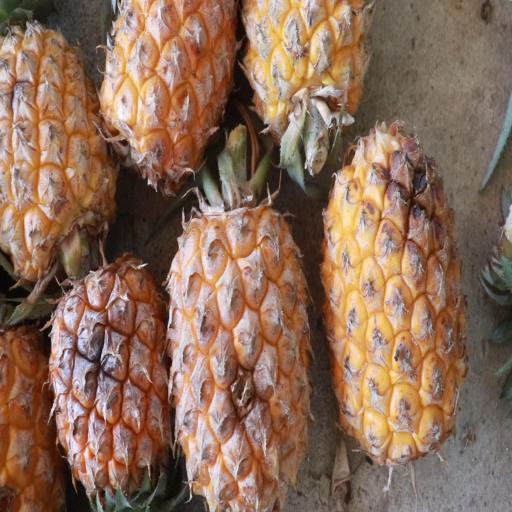Pineapple - v8 v1: (312, 116, 466, 474), (162, 164, 314, 512), (0, 0, 125, 287), (45, 243, 178, 512), (96, 1, 242, 189), (239, 0, 373, 176)
